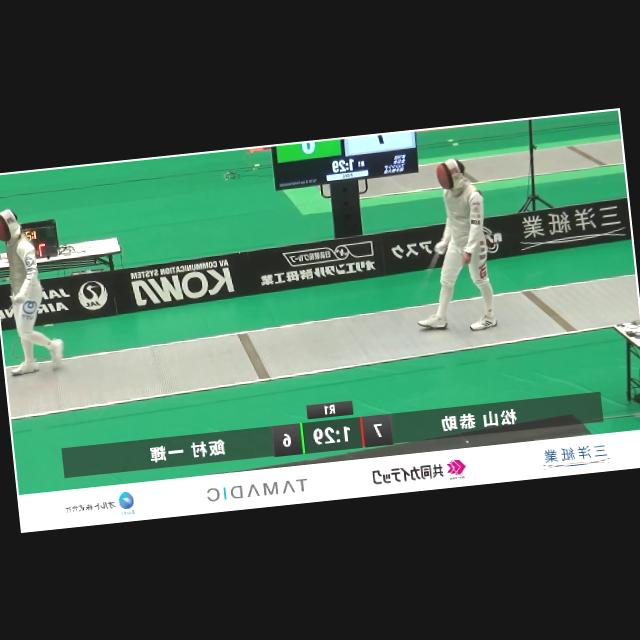blade: (412, 242, 450, 286)
